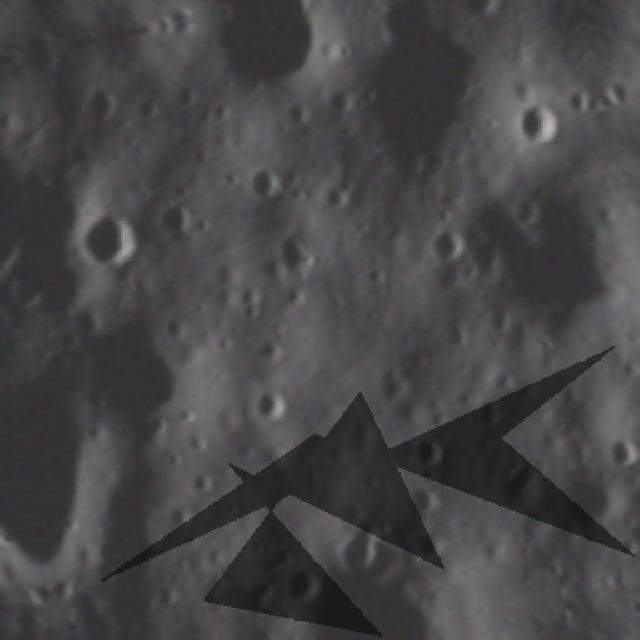crater: (306, 0, 529, 209), (437, 159, 640, 384), (61, 285, 230, 460), (193, 0, 336, 111), (540, 462, 638, 555), (69, 198, 151, 282), (319, 508, 398, 588), (481, 443, 556, 522), (234, 376, 303, 439), (148, 183, 207, 246), (512, 96, 570, 158), (403, 423, 459, 482), (238, 155, 294, 213), (266, 222, 319, 281), (420, 219, 472, 276), (372, 362, 422, 420), (397, 475, 451, 528), (278, 560, 329, 614), (500, 188, 549, 240), (447, 0, 518, 35), (77, 81, 126, 130), (405, 529, 453, 573), (146, 578, 186, 624), (603, 432, 640, 476), (129, 88, 168, 128), (186, 468, 225, 504), (164, 506, 198, 542), (609, 528, 640, 566)
